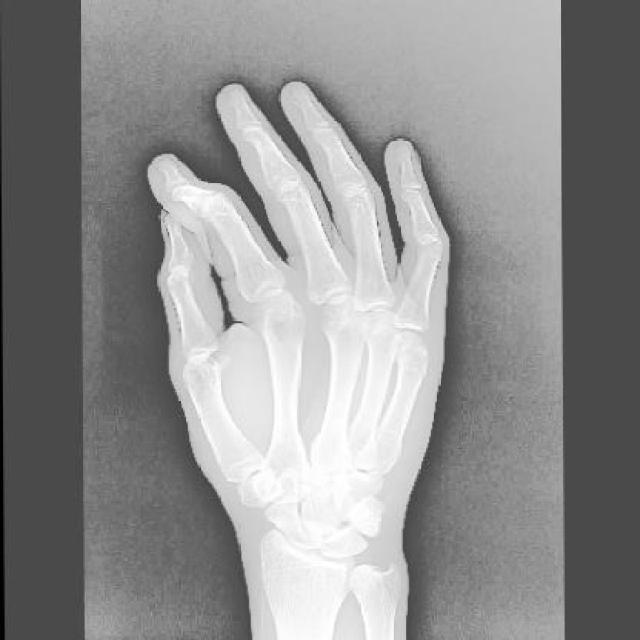Fracture: (393, 357, 427, 383)
